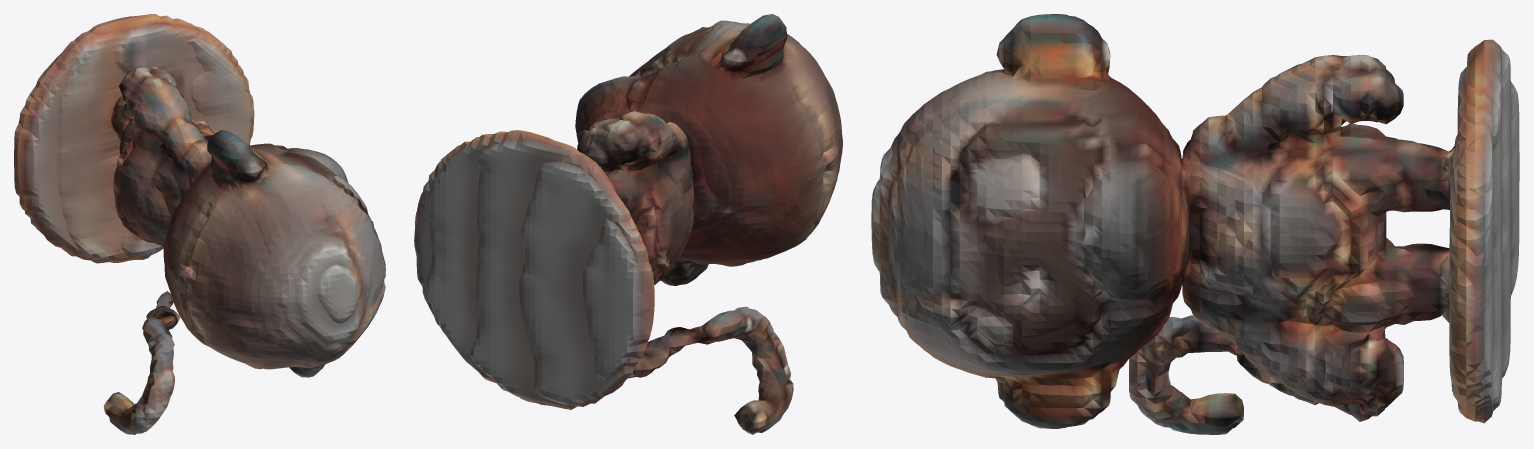
Rendered from mascot.glb.
The picture shows the model from 3 angles, left to right: view 1: azimuth 30°, elevation 25°; view 2: azimuth 150°, elevation 25°; view 3: azimuth 270°, elevation 25°; orthographic projection. The views are drawn at different scales.
Visible parts, largest first — view 1: mesh.obj; view 2: mesh.obj; view 3: mesh.obj.
Boxes of the visible parts, box(x1,y1,x2,y2) form: mesh.obj: box(14, 14, 385, 434); mesh.obj: box(414, 14, 842, 434); mesh.obj: box(871, 14, 1519, 434).
Bounding box in the file's own units: 0.5878 × 0.7687 × 0.999.
